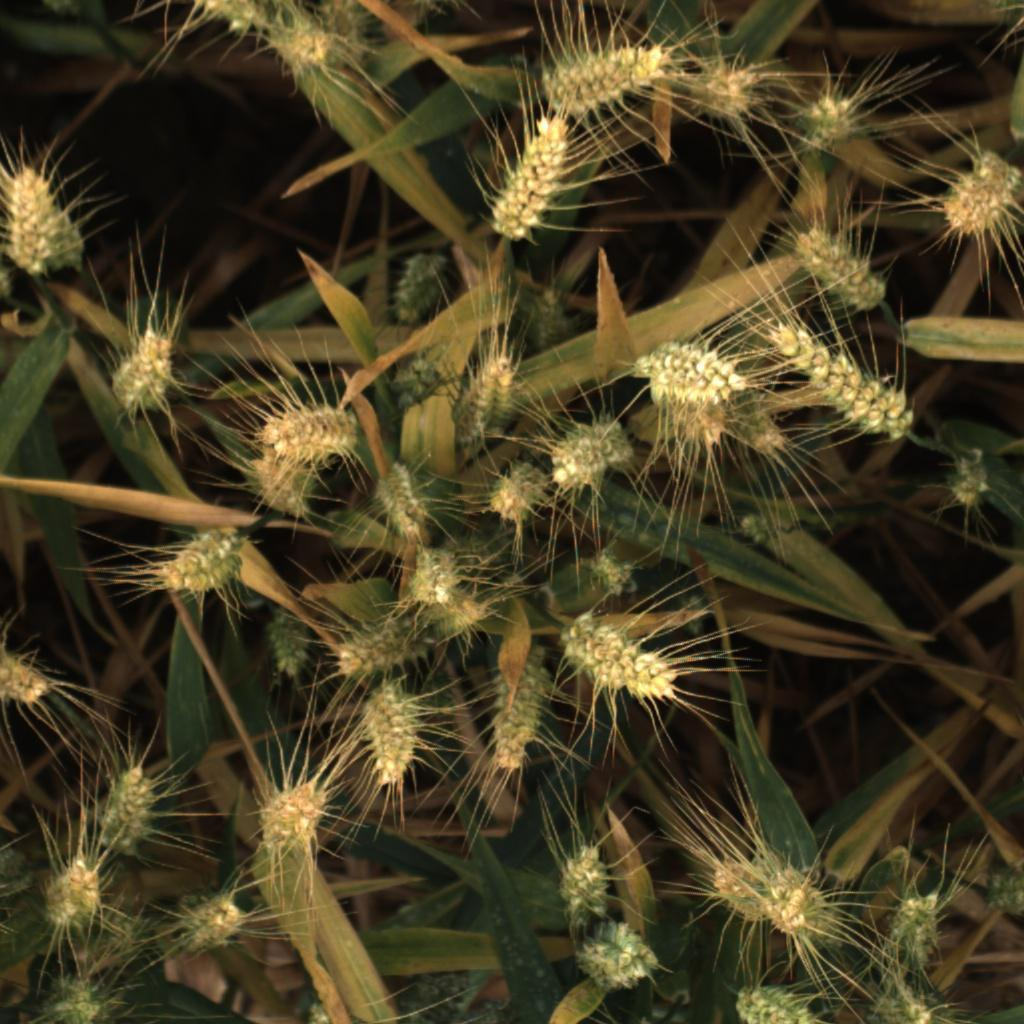0-0: (767, 318, 921, 451), (482, 111, 578, 247), (553, 607, 678, 710), (539, 32, 669, 112), (0, 164, 87, 280), (929, 140, 1024, 244), (788, 225, 894, 316), (628, 337, 747, 410), (452, 342, 528, 449), (488, 649, 550, 779), (727, 497, 881, 545), (260, 386, 362, 458), (155, 518, 241, 603), (107, 322, 181, 419), (256, 772, 340, 855), (548, 414, 633, 496), (366, 684, 427, 797), (878, 884, 948, 969), (381, 251, 454, 328), (172, 889, 252, 959), (101, 764, 161, 856), (248, 445, 322, 519), (330, 618, 418, 680), (583, 925, 663, 993), (42, 851, 105, 936), (388, 342, 461, 415), (682, 64, 762, 129), (708, 857, 781, 927), (562, 835, 612, 935), (393, 966, 478, 1024), (512, 275, 576, 351), (422, 583, 497, 645), (770, 865, 831, 941), (482, 460, 547, 531), (729, 977, 824, 1024), (195, 0, 294, 45), (375, 465, 430, 541), (727, 399, 788, 466), (405, 542, 464, 611), (795, 90, 860, 152), (42, 972, 117, 1024), (941, 444, 995, 516), (272, 19, 330, 86), (263, 607, 315, 681), (0, 634, 51, 707), (310, 0, 362, 66), (100, 904, 158, 963), (667, 402, 731, 452), (581, 541, 642, 593), (874, 976, 942, 1022), (672, 591, 721, 645), (979, 869, 1024, 919)
